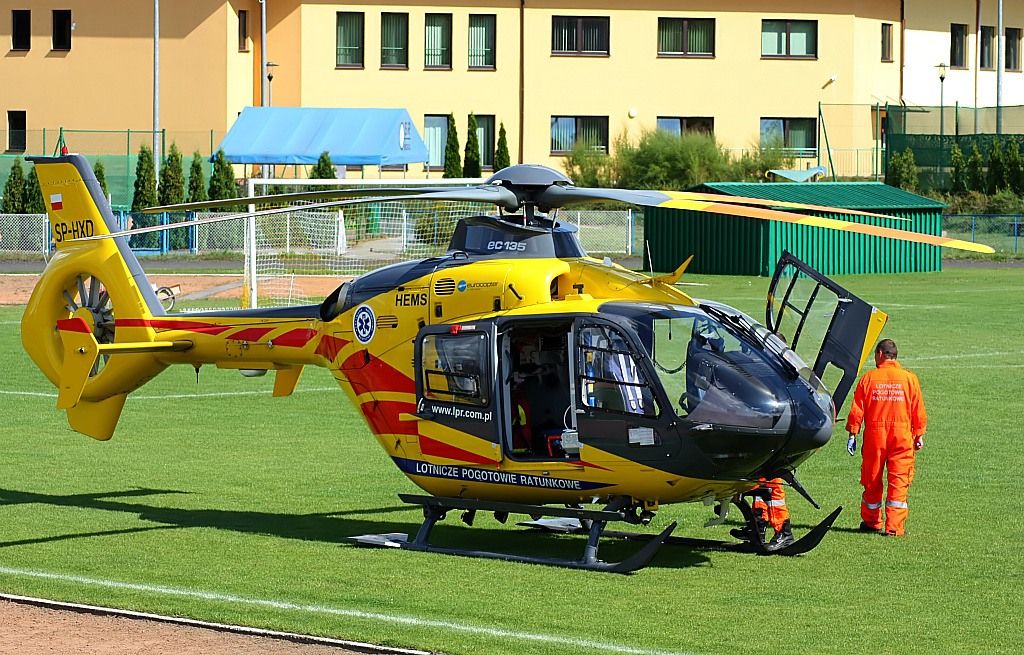person: (844, 337, 928, 536)
